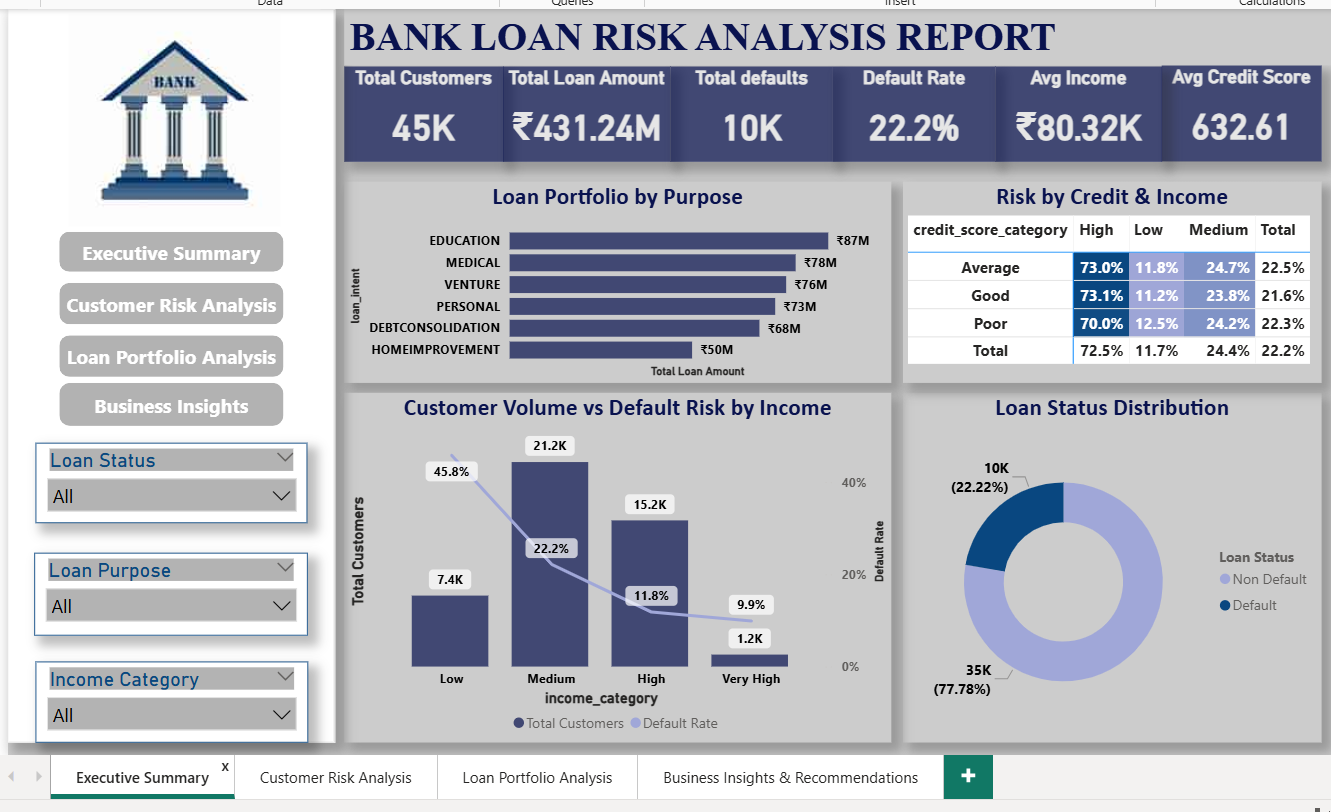

The page's visual inventory and layout, read from the dashboard file:
{"tool":"powerbi","page":{"name":"Executive Summary","canvas":[1280,720],"ordinal":0},"visuals":[{"type":"card","title":"Total Customers","fields":{"Values":["LoanData.Total Customers"]},"box":[324.5,55.5,153.2,91.7],"z":0},{"type":"card","title":"Total Loan Amount","fields":{"Values":["LoanData.Total Loan Amount"]},"box":[477.8,55.5,161.7,91.7],"z":1000},{"type":"card","title":"Total defaults","fields":{"Values":["LoanData.Total Defaults"]},"box":[639.4,55.5,156.8,91.7],"z":2000},{"type":"card","title":"Default Rate","fields":{"Values":["LoanData.Default Rate"]},"box":[796.3,55.5,156.8,91.7],"z":3000},{"type":"card","title":"Avg Credit Score","fields":{"Values":["LoanData.Average Credit Score"]},"box":[1113.5,54.3,154.4,92.9],"z":4000},{"type":"card","title":"Avg Income","fields":{"Values":["LoanData.Average Income"]},"box":[953.1,55.5,160.5,91.7],"z":5000},{"type":"donutChart","title":"Loan Status Distribution","fields":{"Y":["LoanData.Total Loans"],"Category":["LoanData.Loan Status Name"]},"box":[864.2,370.8,404,337.6],"z":6000},{"type":"clusteredBarChart","title":"Loan Portfolio by Purpose","fields":{"Category":["LoanData.loan_intent"],"Y":["LoanData.Total Loan Amount"]},"box":[324.6,165.9,528.1,194.8],"z":7000},{"type":"lineClusteredColumnComboChart","title":"Customer Volume vs Default Risk by Income","fields":{"Y":["LoanData.Total Customers"],"Y2":["LoanData.Default Rate"],"Category":["LoanData.income_category"]},"box":[324.6,370.8,528.1,337.6],"z":8000},{"type":"pivotTable","title":"Risk by Credit & Income","fields":{"Rows":["LoanData.credit_score_category"],"Columns":["LoanData.loan_burden_category"],"Values":["LoanData.Default Rate"]},"box":[864.2,165.9,404,194.8],"z":9000},{"type":"shape","box":[0,0,316,708.4],"z":10000},{"type":"actionButton","box":[49.1,264,216.4,40.4],"z":11000},{"type":"actionButton","box":[49.1,215,216.4,39],"z":12000},{"type":"actionButton","box":[49.1,314.5,216.4,40.4],"z":13000},{"type":"actionButton","box":[49.1,360.7,216.4,41.8],"z":14000},{"type":"image","box":[18.8,0,282.8,215],"z":15000},{"type":"textbox","box":[324.5,0,955.5,54.3],"z":16000},{"type":"slicer","fields":{"Values":["LoanData.Loan Status Name"]},"box":[26,418.4,262.6,77.9],"z":17000},{"type":"slicer","fields":{"Values":["LoanData.loan_intent"]},"box":[25.3,524.8,264.2,79.6],"z":18000},{"type":"slicer","fields":{"Values":["LoanData.income_category"]},"box":[26.5,629.8,263,78.4],"z":19000}]}

Visuals, with their boxes on the page's 1280x720 design canvas (x1, y1, x2, y2). These are canvas units, not pixel positions in the 1331x812 screenshot, which may show the page scaled, cropped or inside an application window:
"Total Customers" card: <region>324, 56, 478, 147</region>
"Total Loan Amount" card: <region>478, 56, 640, 147</region>
"Total defaults" card: <region>639, 56, 796, 147</region>
"Default Rate" card: <region>796, 56, 953, 147</region>
"Avg Credit Score" card: <region>1114, 54, 1268, 147</region>
"Avg Income" card: <region>953, 56, 1114, 147</region>
"Loan Status Distribution" donutChart: <region>864, 371, 1268, 708</region>
"Loan Portfolio by Purpose" clusteredBarChart: <region>325, 166, 853, 361</region>
"Customer Volume vs Default Risk by Income" lineClusteredColumnComboChart: <region>325, 371, 853, 708</region>
"Risk by Credit & Income" pivotTable: <region>864, 166, 1268, 361</region>
shape: <region>0, 0, 316, 708</region>
actionButton: <region>49, 264, 266, 304</region>
actionButton: <region>49, 215, 266, 254</region>
actionButton: <region>49, 314, 266, 355</region>
actionButton: <region>49, 361, 266, 402</region>
image: <region>19, 0, 302, 215</region>
textbox: <region>324, 0, 1280, 54</region>
slicer - LoanData.Loan Status Name: <region>26, 418, 289, 496</region>
slicer - LoanData.loan_intent: <region>25, 525, 290, 604</region>
slicer - LoanData.income_category: <region>26, 630, 290, 708</region>
